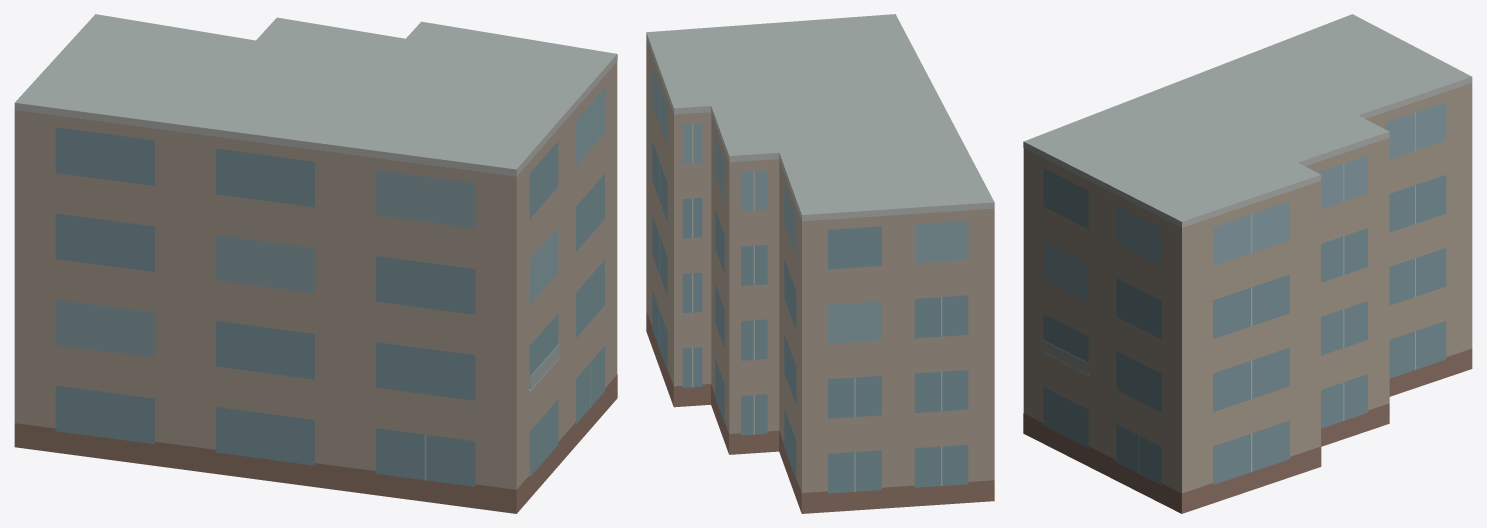
File: survey-upis-32633134.glb
3 views of the same model, side by side, from view 1: azimuth 30°, elevation 25°; view 2: azimuth 150°, elevation 25°; view 3: azimuth 270°, elevation 25° (orthographic). The views are drawn at different scales.
Parts seen in each view (by area): view 1: survey-upis-32633134.tmp; view 2: survey-upis-32633134.tmp; view 3: survey-upis-32633134.tmp.
Part boxes in pixels (left/top/right/bottom): survey-upis-32633134.tmp: left=14, top=14, right=617, bottom=513; survey-upis-32633134.tmp: left=646, top=14, right=994, bottom=513; survey-upis-32633134.tmp: left=1023, top=14, right=1472, bottom=513.
Bounding box in the file's own units: 17.86 × 11.7 × 16.3.
